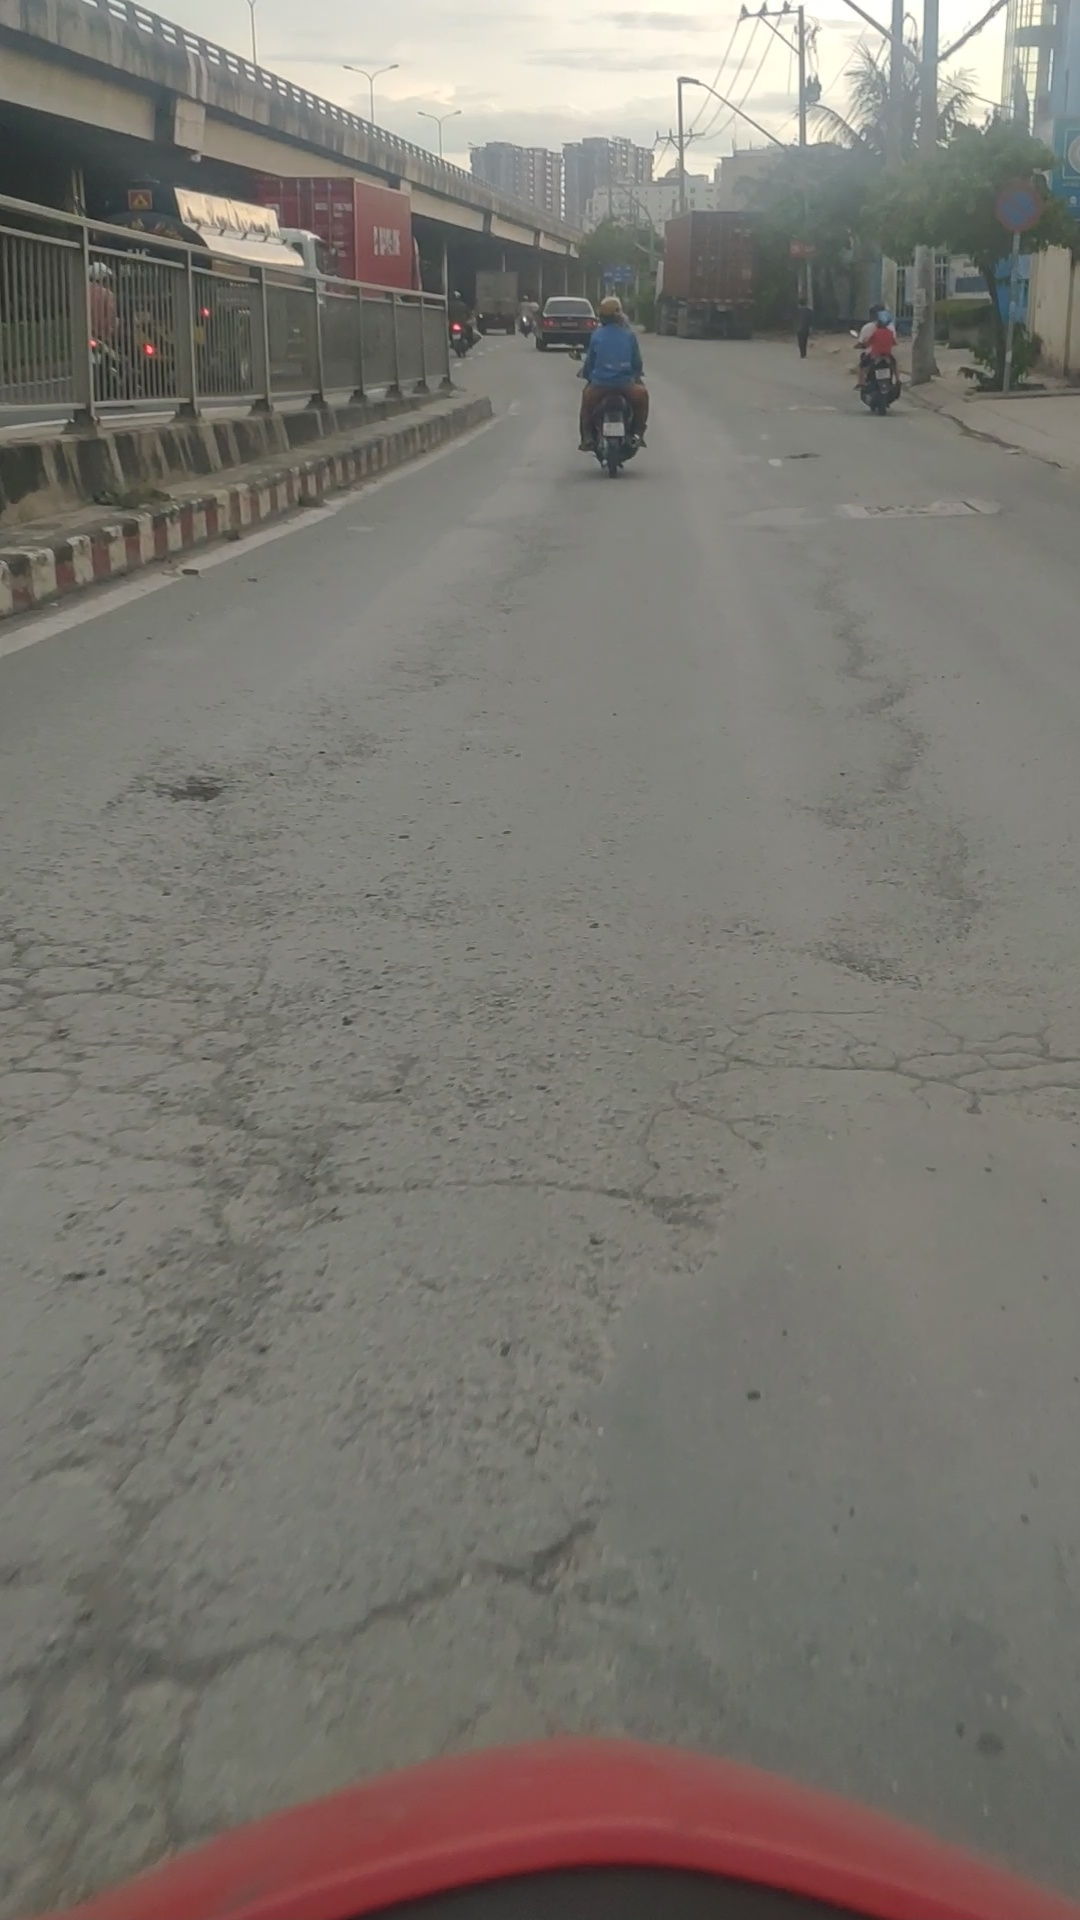hole: (13, 1556, 200, 1742), (491, 1520, 698, 1621), (783, 703, 948, 823), (111, 757, 273, 818), (822, 661, 920, 711), (818, 624, 881, 661)
